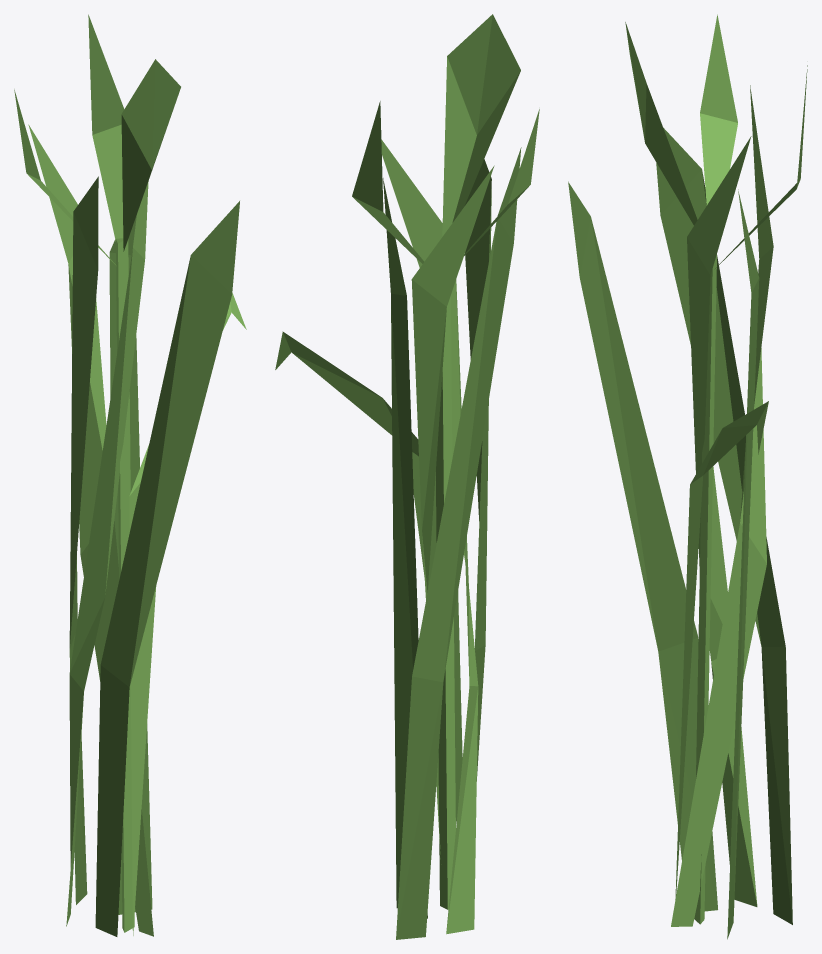
The model's file is Sugarcane_4.fbx.
3 views of the same model, side by side, from view 1: azimuth 30°, elevation 25°; view 2: azimuth 150°, elevation 25°; view 3: azimuth 270°, elevation 25° (orthographic). The views are drawn at different scales.
Visible parts, largest first — view 1: Sugeracne_4; view 2: Sugeracne_4; view 3: Sugeracne_4.
Boxes of the visible parts, box(x1,y1,x2,y2) form: Sugeracne_4: box(14, 14, 246, 936); Sugeracne_4: box(275, 14, 539, 939); Sugeracne_4: box(568, 14, 807, 939).
Bounding box in the file's own units: 11.32 × 38.47 × 9.31.
